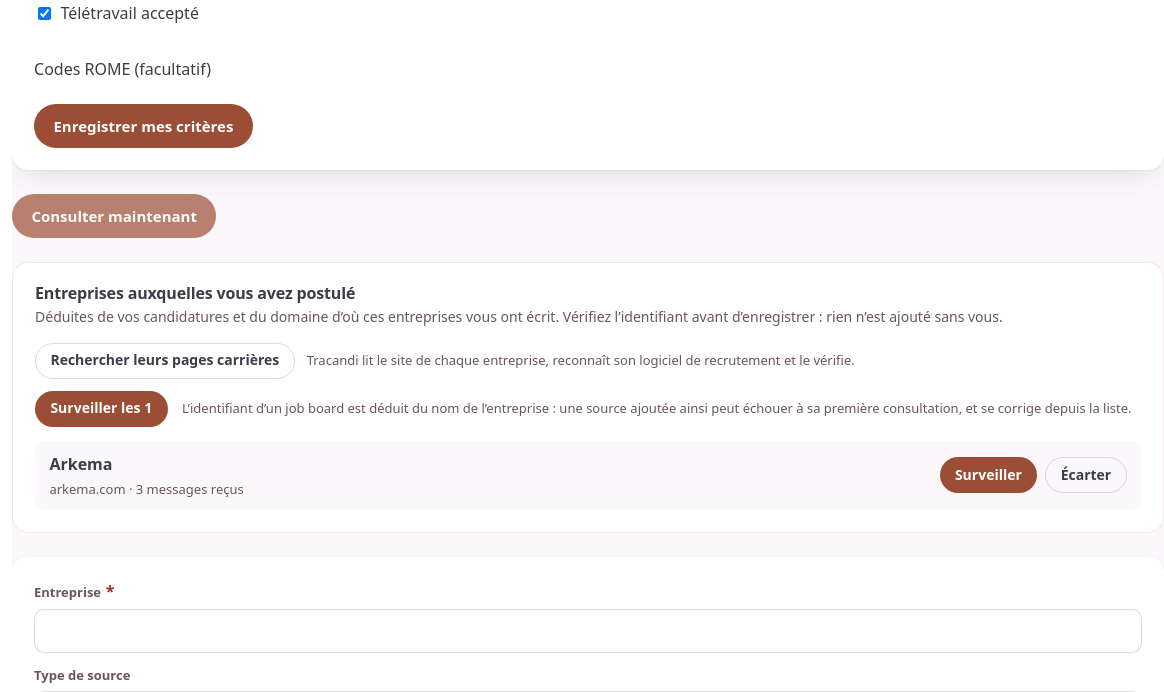
Scenario: SitesPage › [EF-VEI-38] [EF-VEI-39] searches the career pages, then shows what was found on each proposal
(page scrolled)
Click the button "Rechercher leurs pages carrières".
click(165, 360)  # box [35,342,295,378]
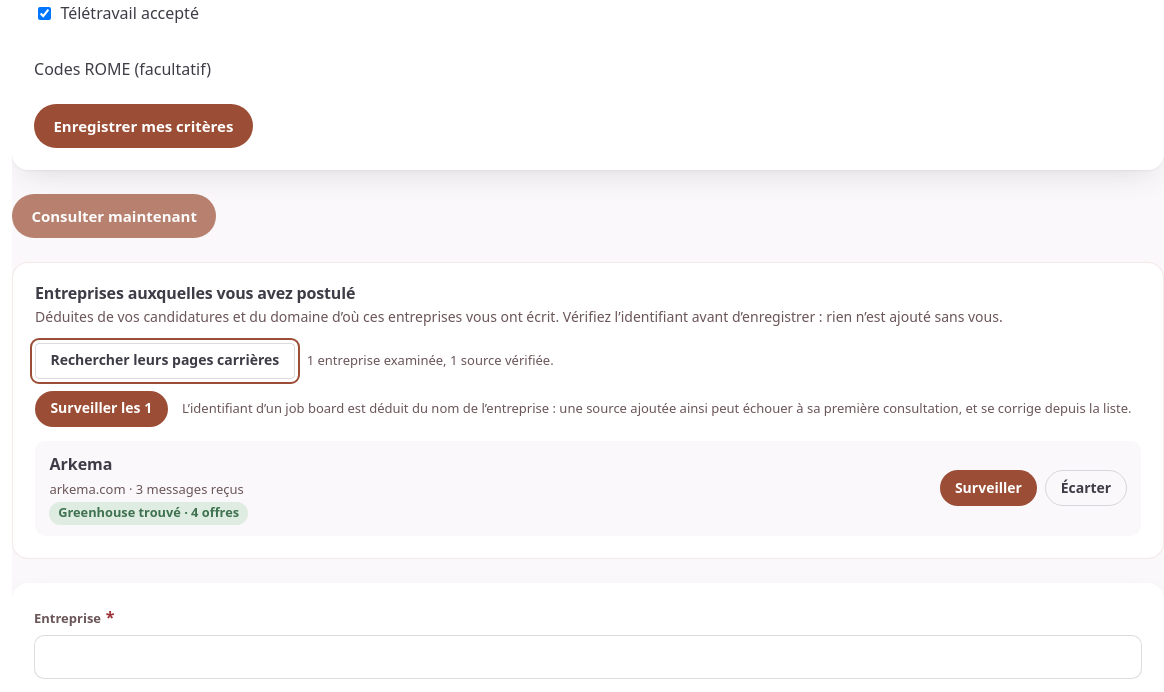
Check: the text "Greenhouse trouvé · 4 offres" is shown, box [49,502,248,525]
Check: the text "1 entreprise examinée, 1 source vérifiée." is shown, box [307,352,554,370]
